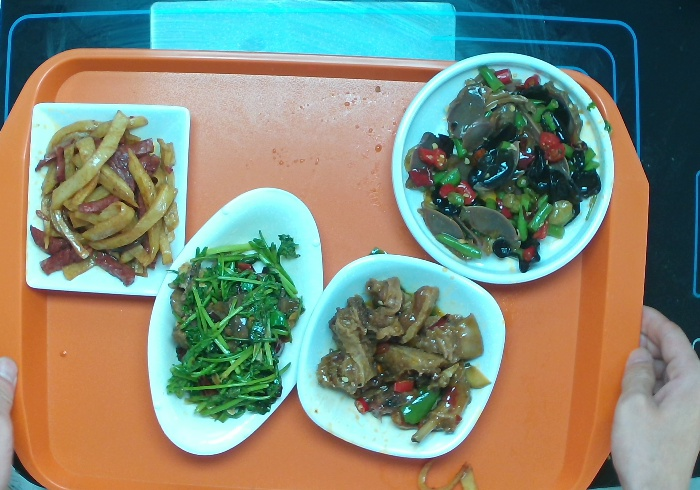HZYJPL-Si_Fang_Die: (23, 99, 192, 302)
HZYJPL-Si_Fang_Yuan_Die: (296, 250, 507, 461)
HZYJPL-Xiao_Yu_Die: (145, 184, 325, 458)
HZYJPL-Xiao_Yuan_Die: (390, 49, 615, 288)
